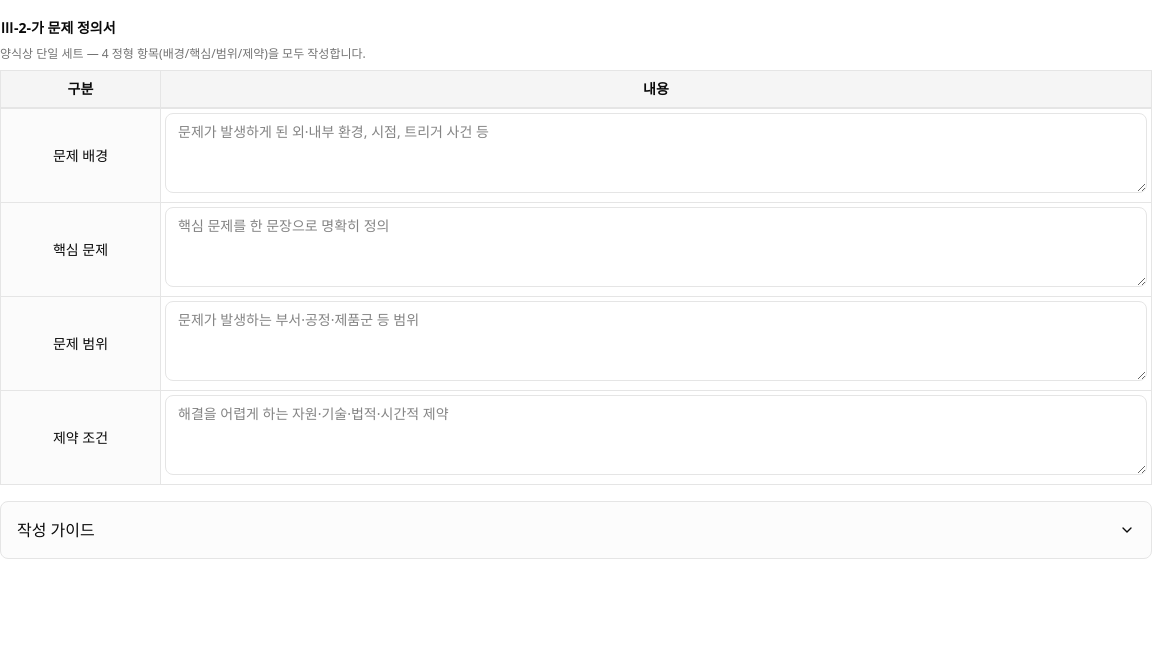
StepProblems (V2 — 문제 정의서 단일 세트, 우선순위 제거) › 작성 가이드에 정본 원문(번호·-)을 그대로 표시한다
Click the button "작성 가이드": click(56, 530) x1=17 y1=502 x2=1135 y2=558
(page scrolled)
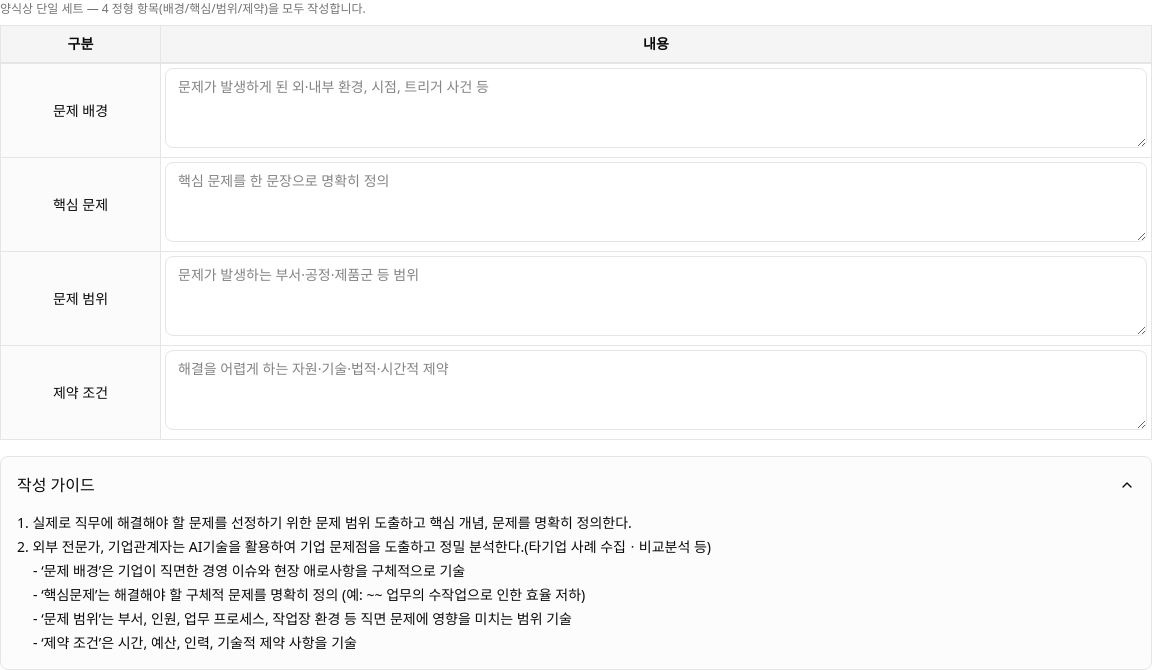
Check: the list item "1. 실제로 직무에 해결해야 할 문제를 선정하기 위한 문제 범위 도출하고 핵심 개념, 문제를 명확히 정의한다." is shown, box x1=17 y1=513 x2=632 y2=532
Check: the list item "- ‘제약 조건’은 시간, 예산, 인력, 기술적 제약 사항을 기술" is shown, box x1=33 y1=633 x2=357 y2=652
